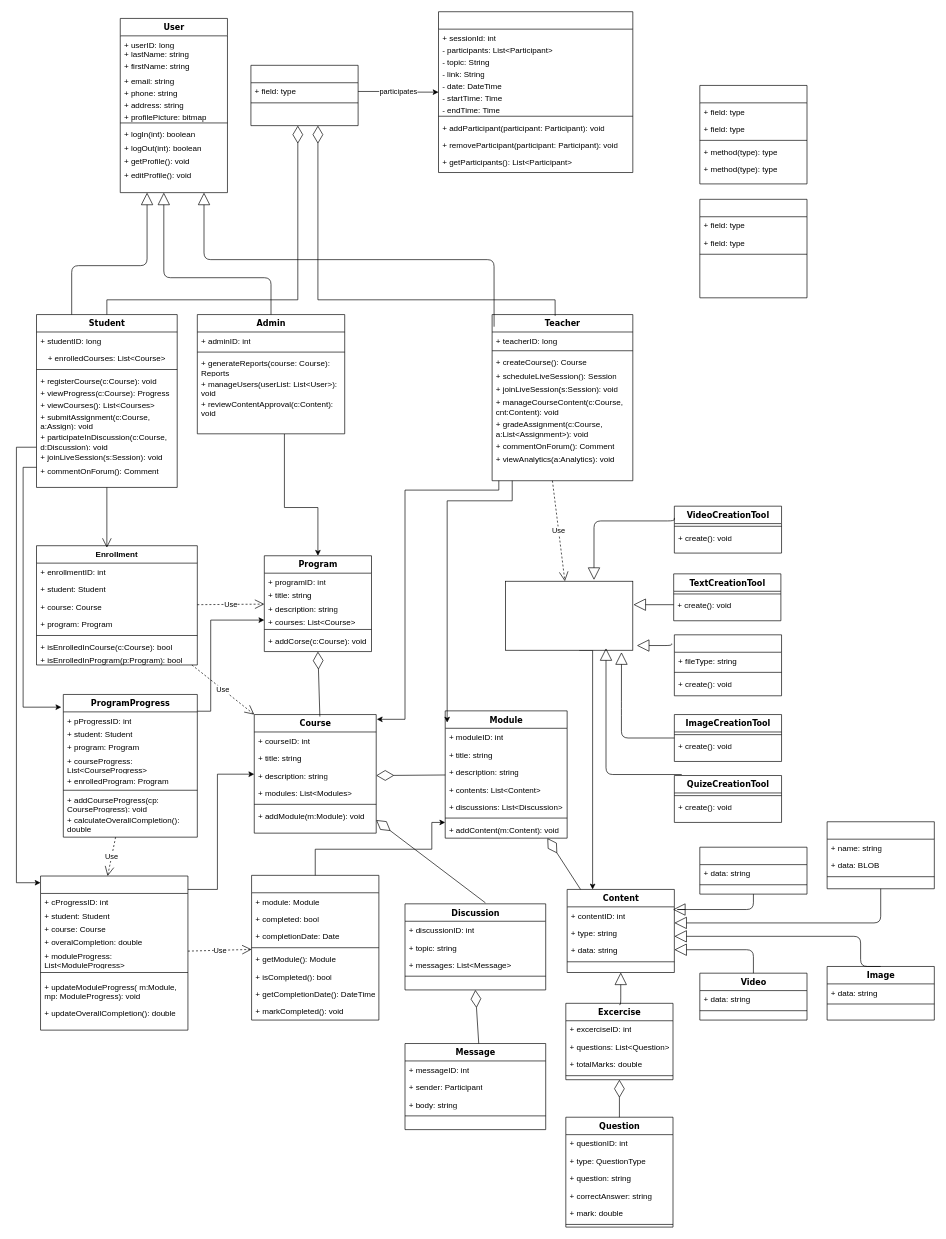
This 946x1239 diagram has some shape labels left out. Here are the shapes that lost their labels. From the top down, the box of each, then its label:
(250, 65, 358, 126): Participant
(438, 11, 633, 173): LiveSession
(699, 85, 807, 184): Analytics
(699, 199, 807, 298): Classname
(505, 581, 633, 650): <<Interface>> ContentCreationTool + create(): void
(674, 634, 782, 696): FileCreationTool
(699, 847, 807, 894): Text
(826, 821, 934, 889): File
(40, 875, 188, 1030): CourseProgress
(251, 875, 379, 1020): ModuleProgress
